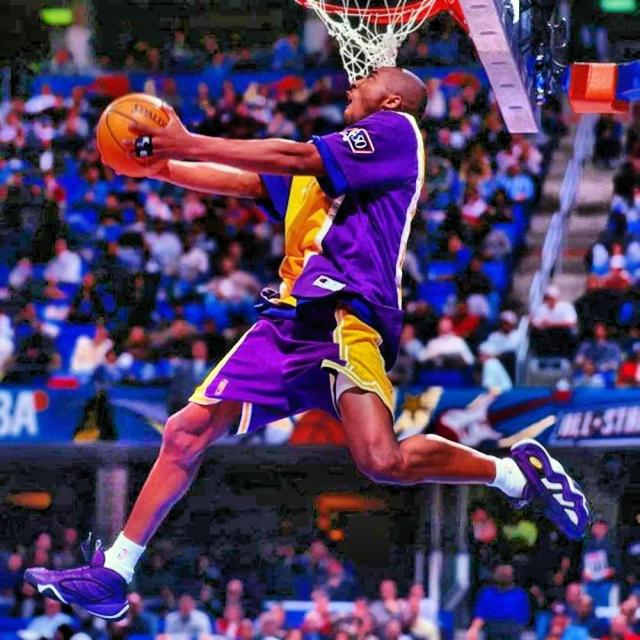board: (96, 92, 172, 178)
rim: (296, 0, 465, 87)
